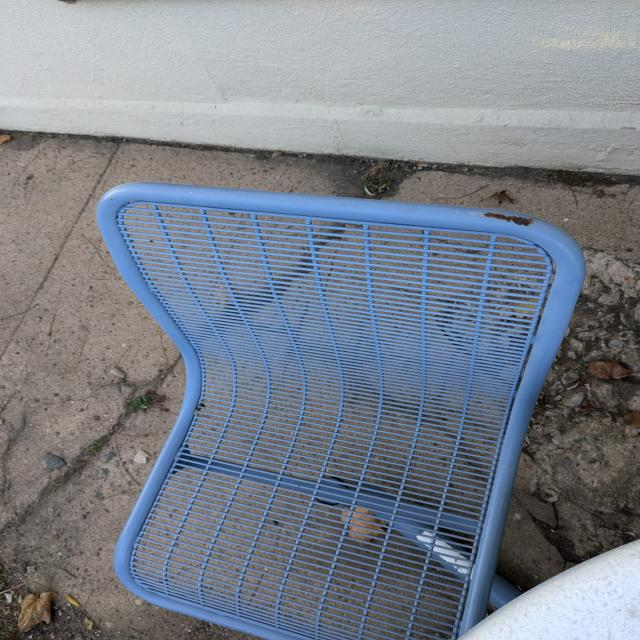Filiform Corrosion: (484, 213, 534, 227)
